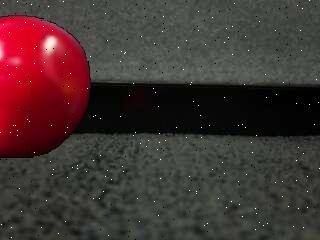Tomato: (0, 12, 96, 163)
